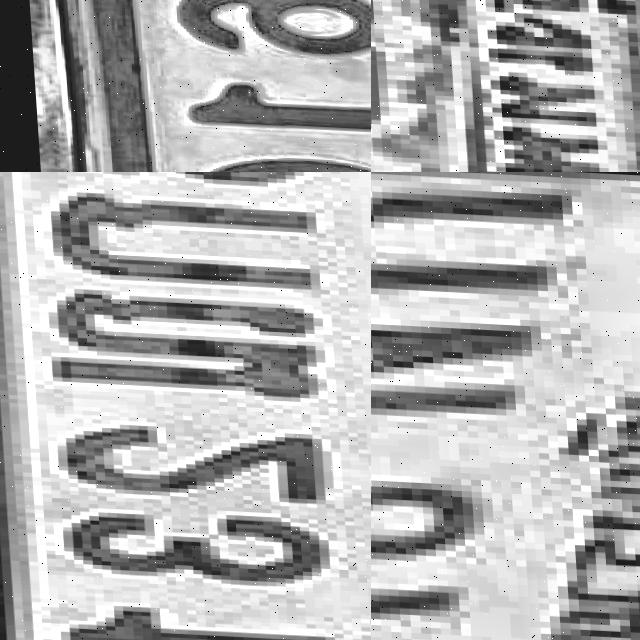license-plate: (0, 172, 371, 640), (371, 172, 640, 640), (0, 0, 371, 172), (371, 0, 640, 172)
